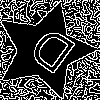D: (20, 25, 79, 84)
